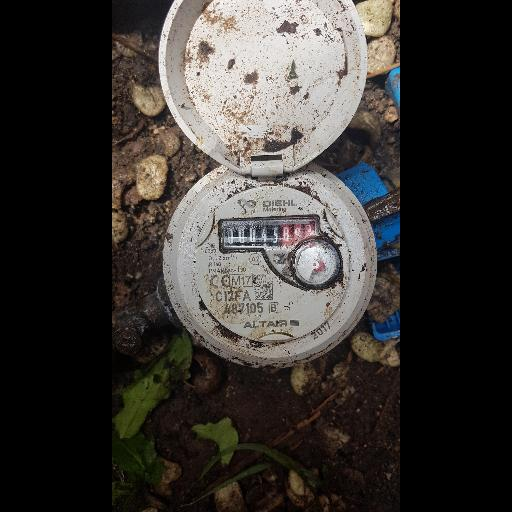0: (225, 225, 235, 245), (236, 225, 246, 245), (248, 225, 257, 246)
3: (304, 224, 314, 239)
4: (259, 225, 269, 246)
5: (271, 225, 280, 246)
8: (281, 224, 291, 244)
9: (294, 224, 302, 244)
border_water_meter_number: (221, 218, 319, 251)
